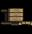Obstacle: (0, 4, 32, 31)
